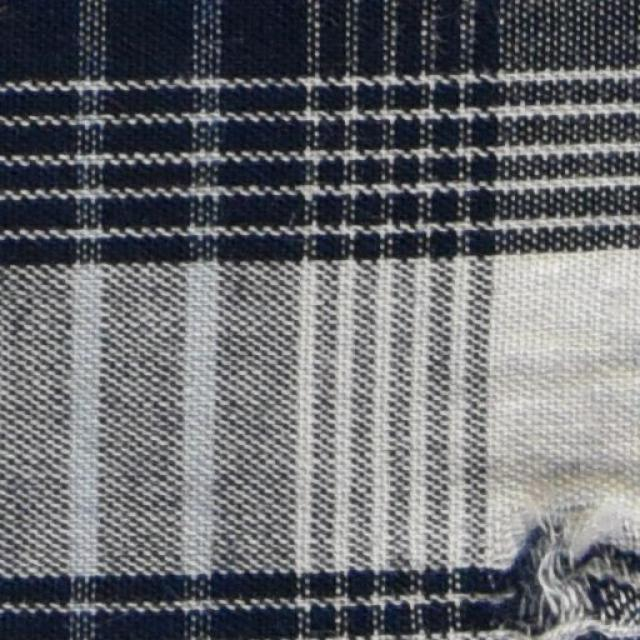Snag: (481, 497, 639, 637)
